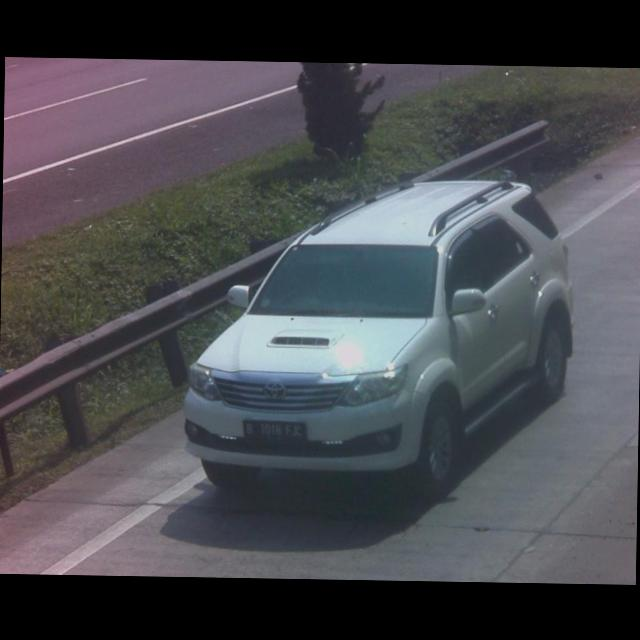plate: (238, 415, 308, 443)
